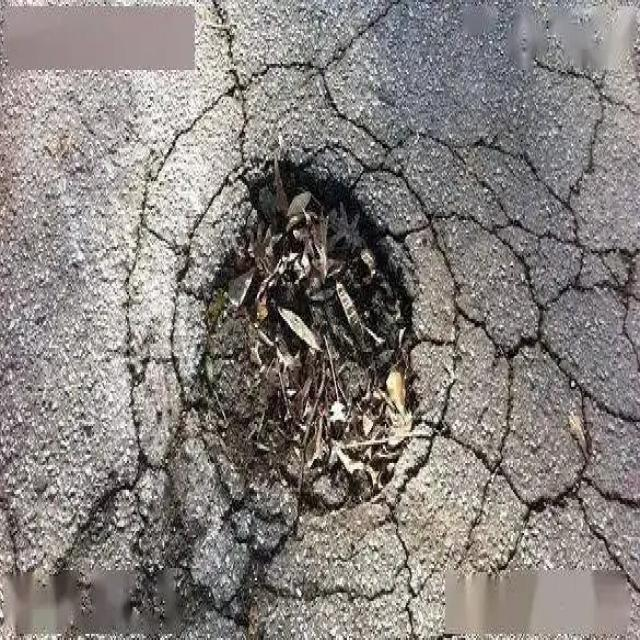Buraco: (181, 153, 433, 526)
